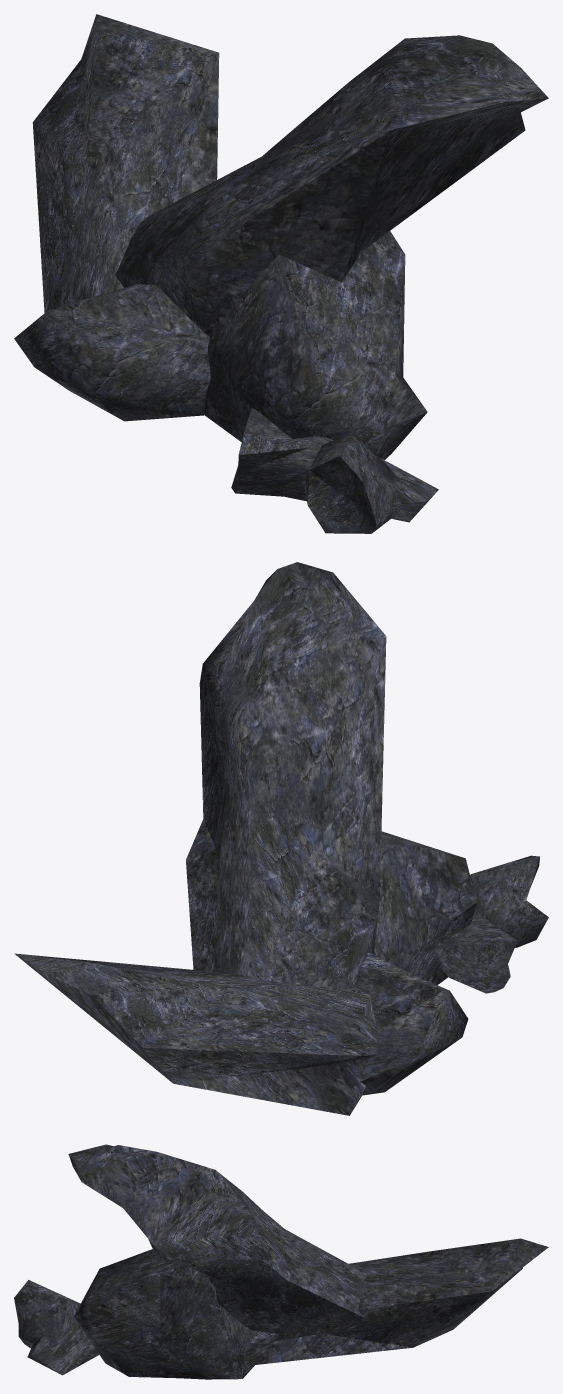
The model's file is pir_m_prp_vol_rockGroup_a.fbx.
The picture shows the model from 3 angles, top to bottom: view 1: azimuth 30°, elevation 25°; view 2: azimuth 150°, elevation 25°; view 3: azimuth 270°, elevation 25°; orthographic projection. The views are drawn at different scales.
Parts seen in each view (by area): view 1: rock_4, rock_6, rock_3, rock_5, rock_1, rock_2; view 2: rock_4, rock_6, rock_3, rock_5, rock_1, rock_2; view 3: rock_4, rock_3, rock_6, rock_1, rock_2.
Boxes of the visible parts, box(x1,y1,x2,y2) form: rock_4: box(115, 35, 548, 335); rock_6: box(32, 14, 219, 312); rock_3: box(204, 231, 427, 459); rock_5: box(14, 283, 210, 421); rock_1: box(304, 431, 403, 533); rock_2: box(231, 408, 438, 522); rock_4: box(186, 562, 386, 990); rock_6: box(14, 953, 377, 1115); rock_3: box(373, 831, 476, 984); rock_5: box(356, 952, 468, 1095); rock_1: box(470, 855, 548, 947); rock_2: box(434, 912, 517, 993); rock_4: box(68, 1144, 367, 1341); rock_3: box(74, 1249, 278, 1379); rock_6: box(255, 1238, 548, 1364); rock_1: box(14, 1280, 80, 1348); rock_2: box(27, 1323, 99, 1375).
Bounding box in the file's own units: 5459 × 5277 × 9746.
1 material, 1 textured.
